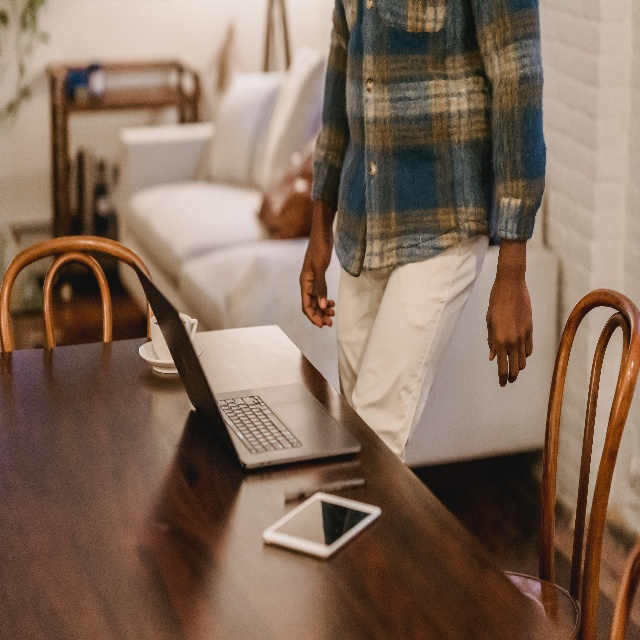Sin_guantes: (486, 273, 535, 386), (301, 238, 338, 330)
